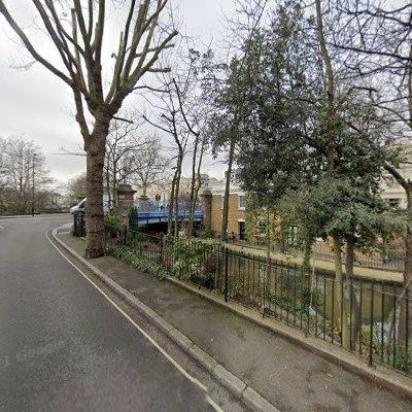moving-light-truck: (68, 192, 116, 218)
